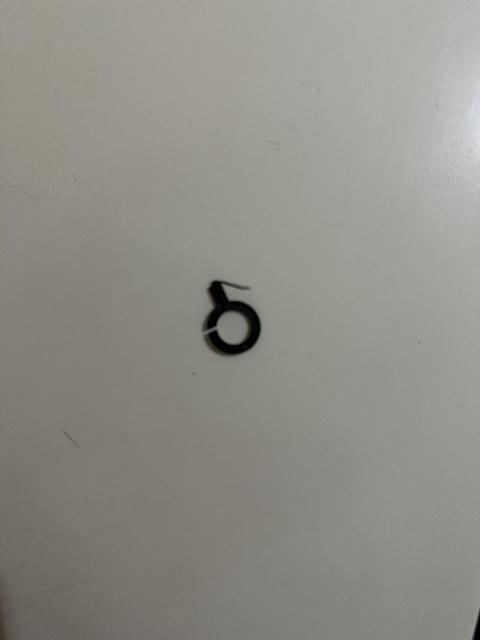Plastik: (197, 276, 275, 359)
